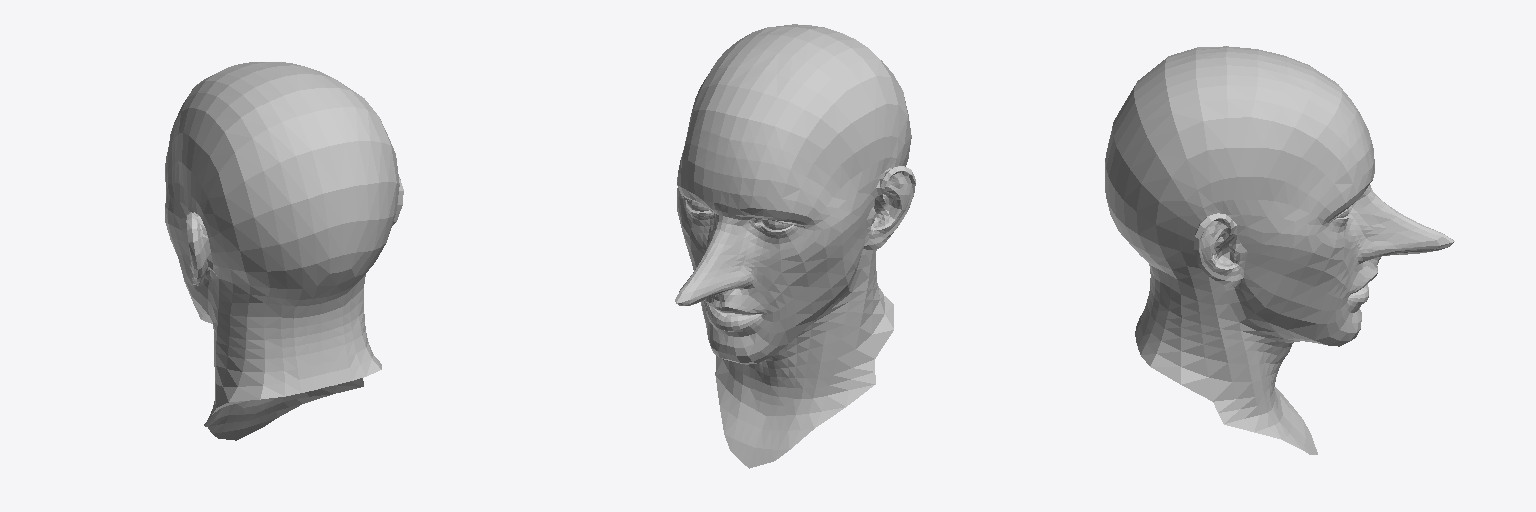
File: longNose.obj
3 views of the same model, side by side, from view 1: azimuth 30°, elevation 25°; view 2: azimuth 150°, elevation 25°; view 3: azimuth 270°, elevation 25° (orthographic).
Parts seen in each view (by area): view 1: mesh0; view 2: mesh0; view 3: mesh0.
Part boxes in pixels (left/top/right/bottom): mesh0: left=165, top=62, right=403, bottom=440; mesh0: left=675, top=24, right=915, bottom=468; mesh0: left=1105, top=46, right=1454, bottom=454.
Bounding box in the file's own units: 18.12 × 32 × 25.52.